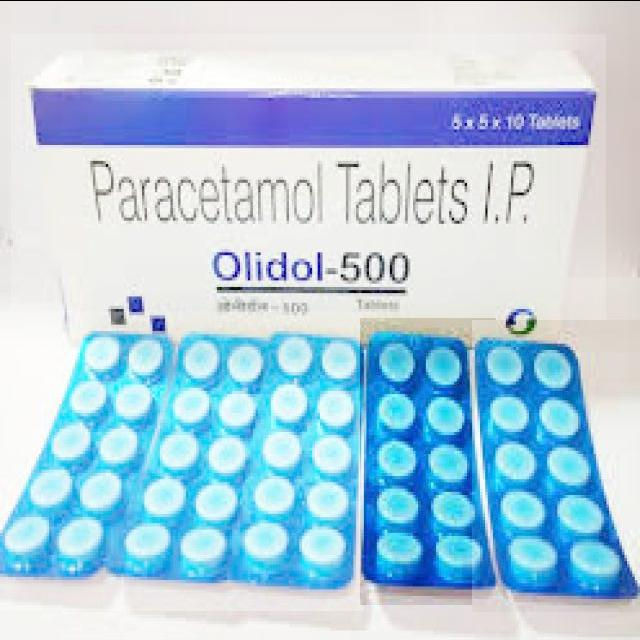authentic: (11, 34, 606, 330), (0, 311, 364, 611), (472, 320, 640, 612), (360, 318, 496, 605)
